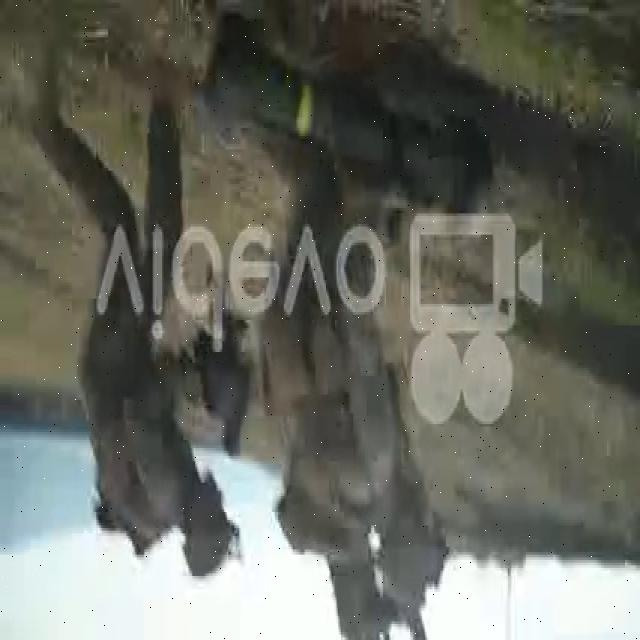bazooka: (206, 10, 493, 242)
